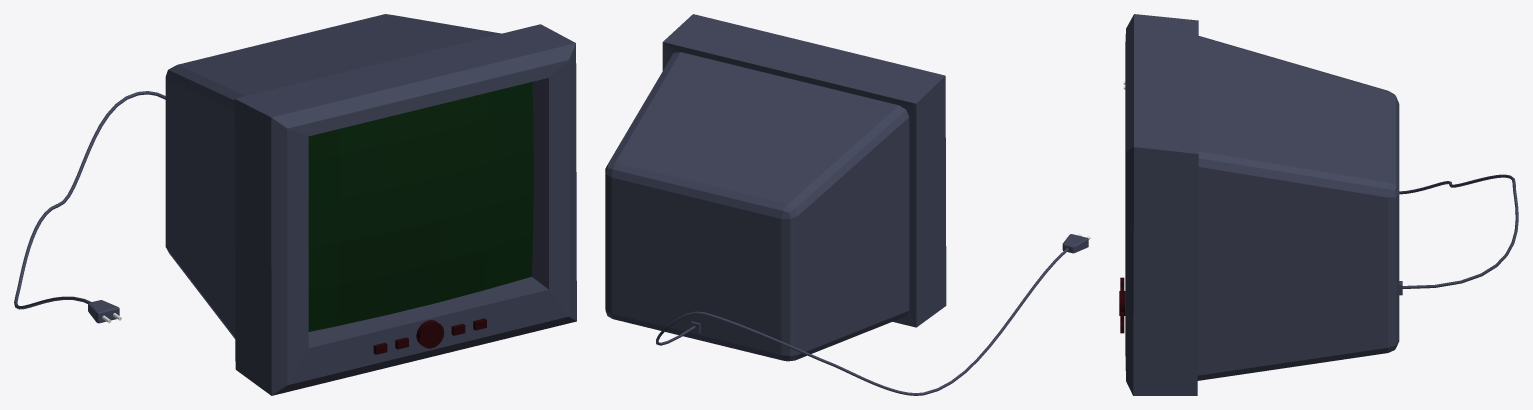
Rendered from Television.glb.
3 renders of one model, left to right at view 1: azimuth 30°, elevation 25°; view 2: azimuth 150°, elevation 25°; view 3: azimuth 270°, elevation 25°, orthographic. The views are drawn at different scales.
Visible parts, largest first — view 1: Cube, BézierCurve, Cylinder, Cube.002; view 2: Cube, BézierCurve; view 3: Cube, BézierCurve.
Boxes of the visible parts, x1,y1,x2,y2 form: Cube: (165,14,576,395); BézierCurve: (14,91,165,309); Cylinder: (416,320,444,348); Cube.002: (88,300,119,323); Cube: (605,14,946,361); BézierCurve: (656,248,1067,395); Cube: (1125,14,1399,395); BézierCurve: (1399,174,1518,288).
Bounding box in the file's own units: 3.16 × 1.75 × 2.55.
